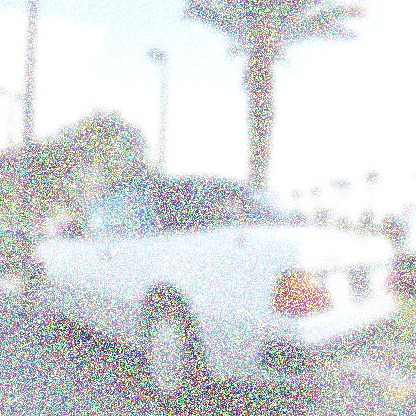Vehicle: (20, 174, 404, 414)
